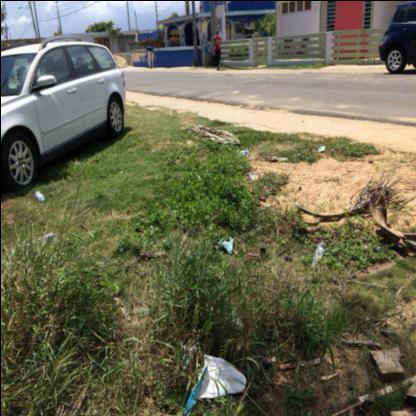Bottle: (40, 198, 43, 201)
Bottle cap: (310, 241, 326, 266), (37, 232, 59, 242), (35, 191, 44, 201), (236, 149, 250, 155)
Cup: (249, 172, 262, 182)
Plastic bag - wrapper: (184, 354, 246, 416)
Unlabeled litter: (180, 344, 196, 368), (219, 237, 232, 254), (390, 346, 400, 360), (277, 157, 288, 160), (318, 146, 324, 151)
